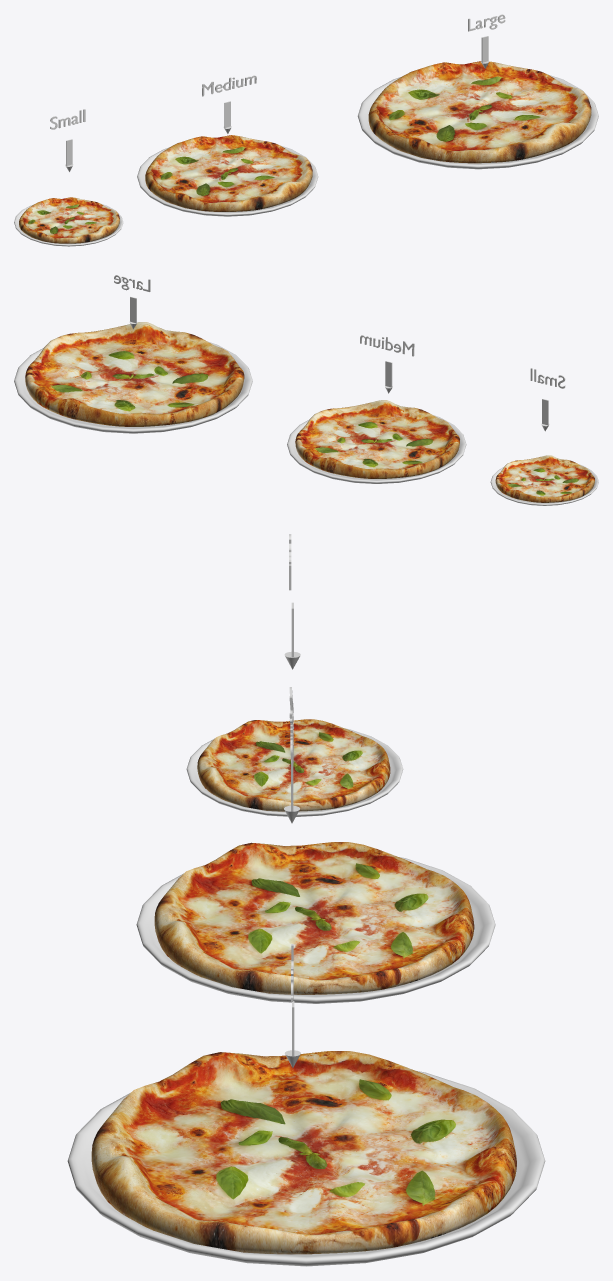
File: pizzacompare.glb
3 views of the same model, one above another, from view 1: azimuth 30°, elevation 25°; view 2: azimuth 150°, elevation 25°; view 3: azimuth 270°, elevation 25° (orthographic). The views are drawn at different scales.
Visible parts, largest first — view 1: Pizza.002, Pizza.001, Pizza, Text.001; view 2: Pizza.002, Pizza.001, Pizza, Text.001; view 3: Pizza.002, Pizza.001, Pizza.
Part boxes in pixels (left/top/right/bottom): Pizza.002: left=357, top=61, right=598, bottom=169; Pizza.001: left=137, top=135, right=318, bottom=216; Pizza: left=14, top=197, right=123, bottom=246; Text.001: left=202, top=75, right=256, bottom=96; Pizza.002: left=14, top=322, right=252, bottom=433; Pizza.001: left=287, top=400, right=466, bottom=483; Pizza: left=490, top=455, right=598, bottom=505; Text.001: left=360, top=335, right=414, bottom=356; Pizza.002: left=67, top=1051, right=545, bottom=1266; Pizza.001: left=136, top=842, right=495, bottom=1003; Pizza: left=186, top=719, right=403, bottom=816.
Size of the model in its own units: 32.54 by 6.3 by 12.05.
Materials: 4 (2 with a texture image).
